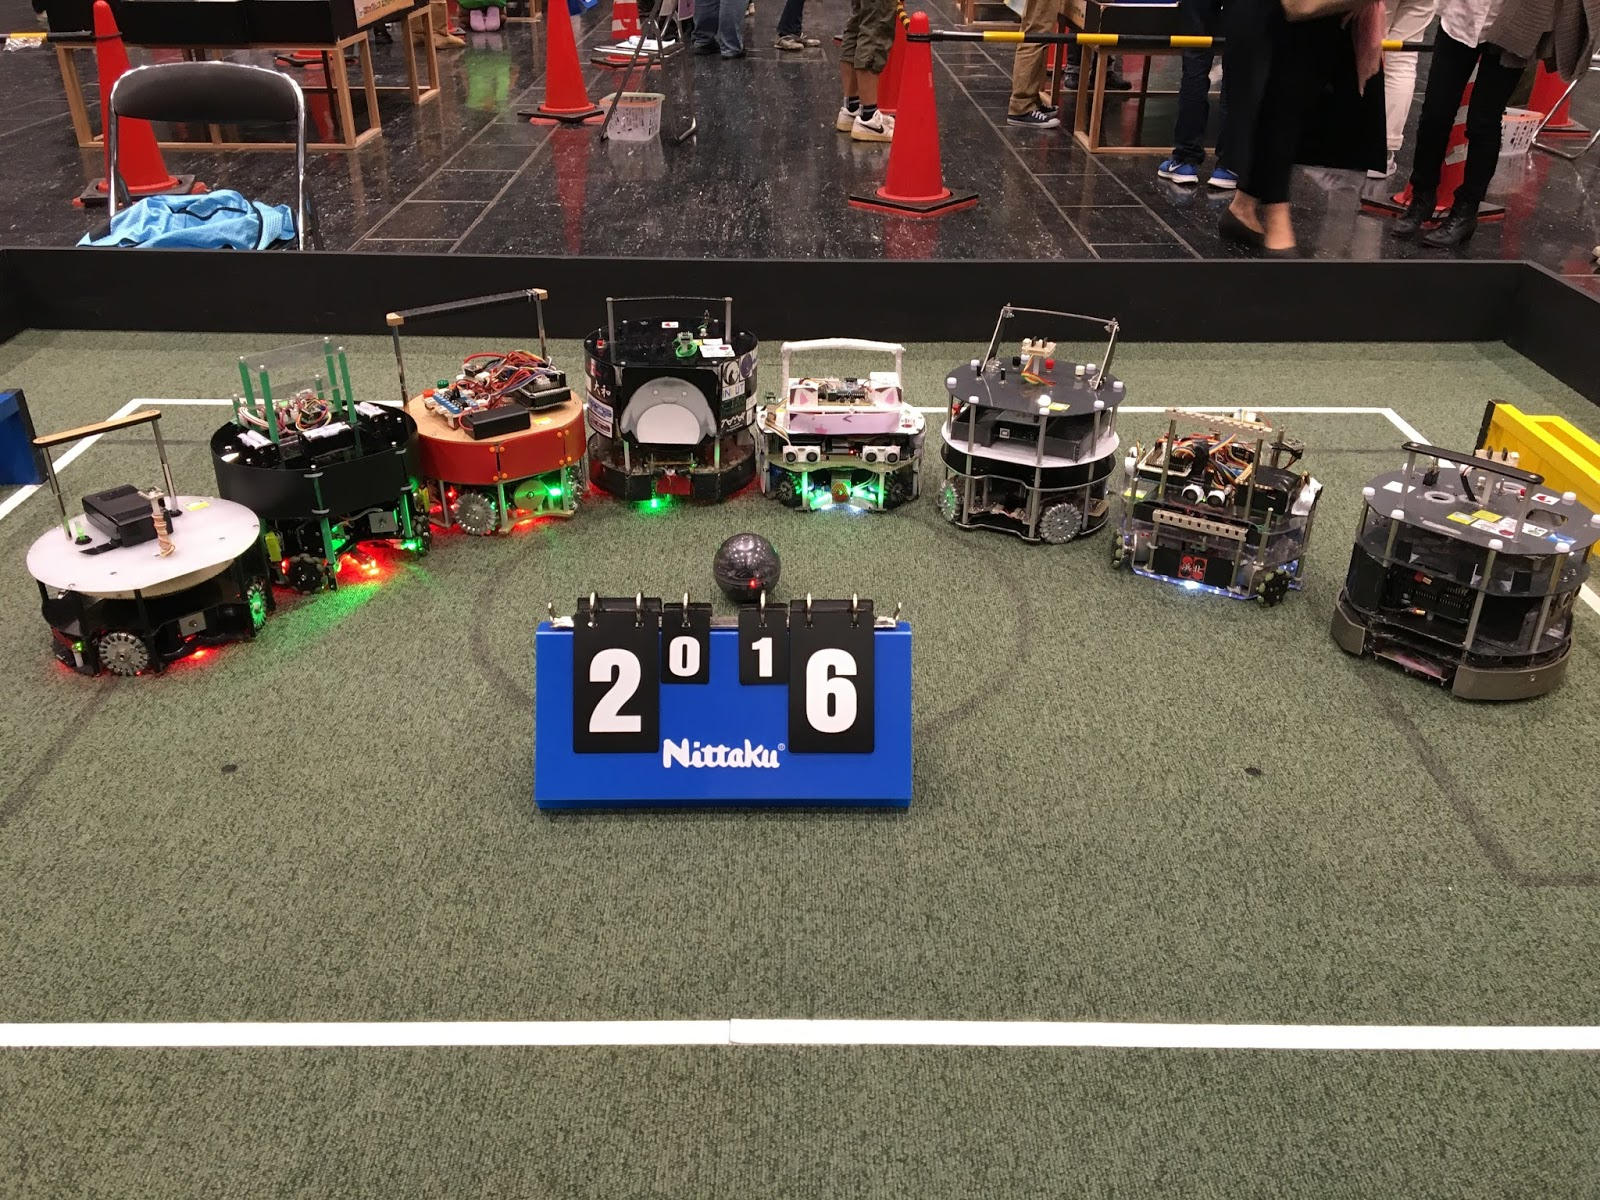Robot: (1330, 424, 1597, 713), (19, 432, 272, 684), (224, 337, 427, 597), (384, 287, 590, 532), (1117, 405, 1324, 608), (952, 303, 1116, 545), (585, 284, 753, 505), (763, 329, 922, 524)
